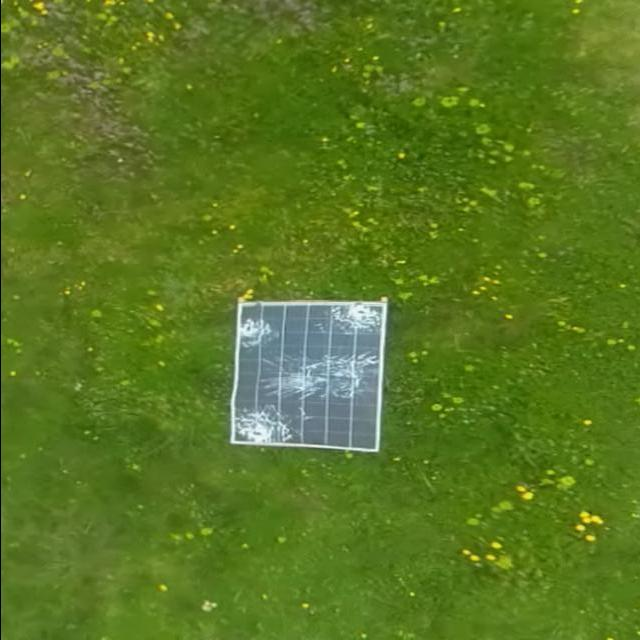cracked: (227, 299, 384, 447)
